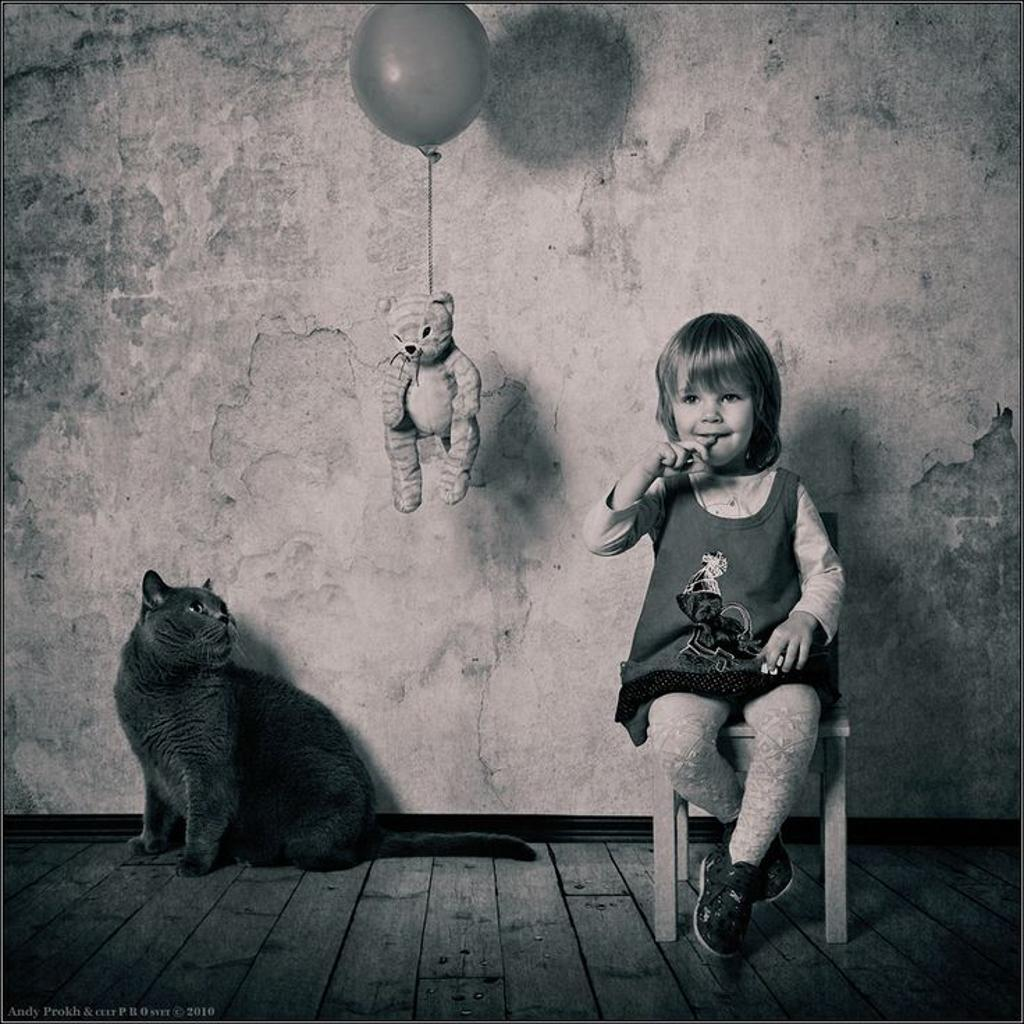face: (674, 354, 752, 464)
